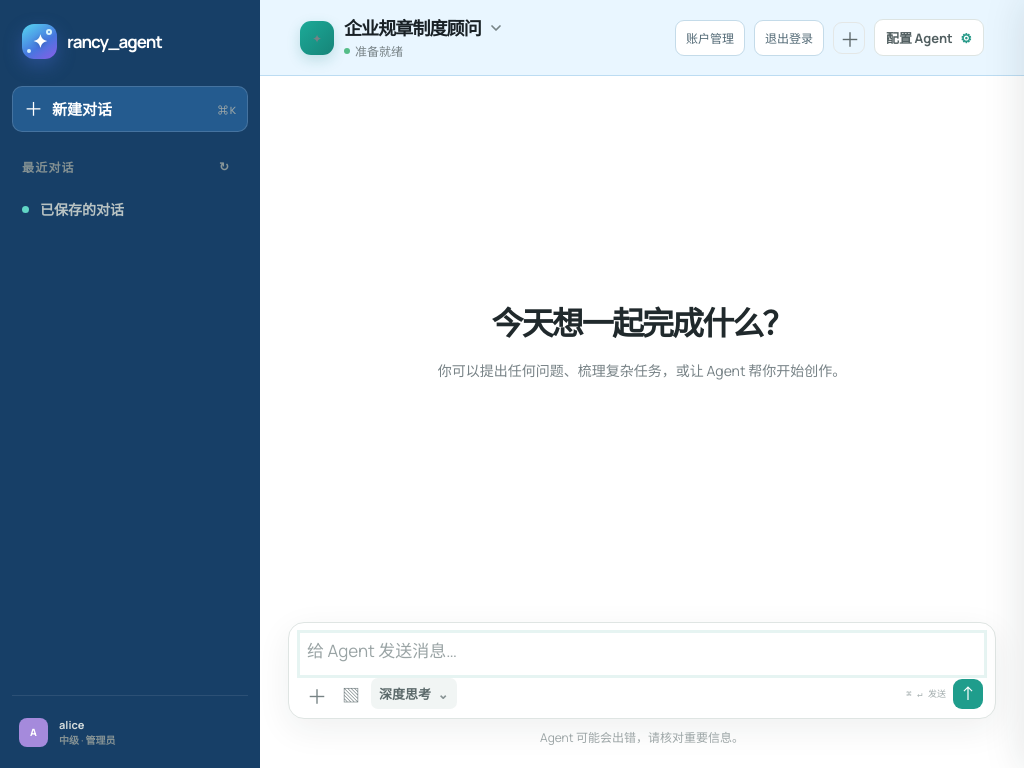
Test: edits stable account IDs without sending an unchanged password
Expected: the button "退出登录" is shown, [754, 20, 824, 56]
Click the button "账户管理": (710, 38) [675, 20, 745, 56]
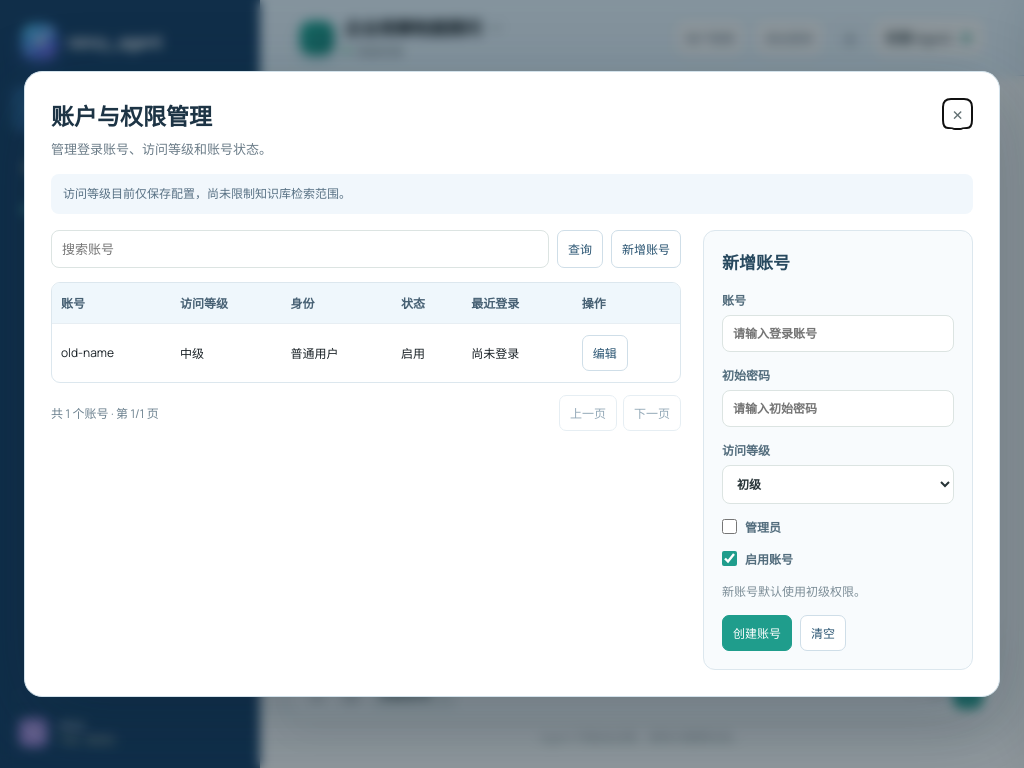
Expected: the button "创建账号" is enabled, [722, 615, 792, 651]
Click the button with aria-label "编辑 old-name": (605, 352) [582, 334, 628, 370]
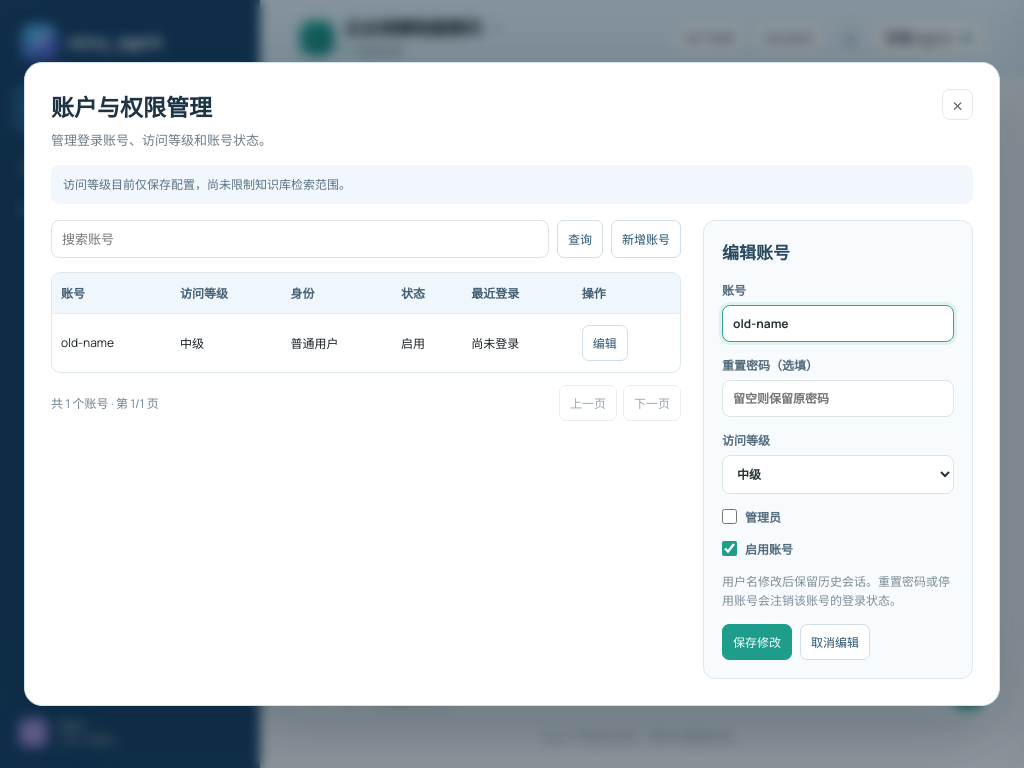
Replace the text in the field labelled "账号" with "new-name": (838, 323) [722, 305, 954, 342]
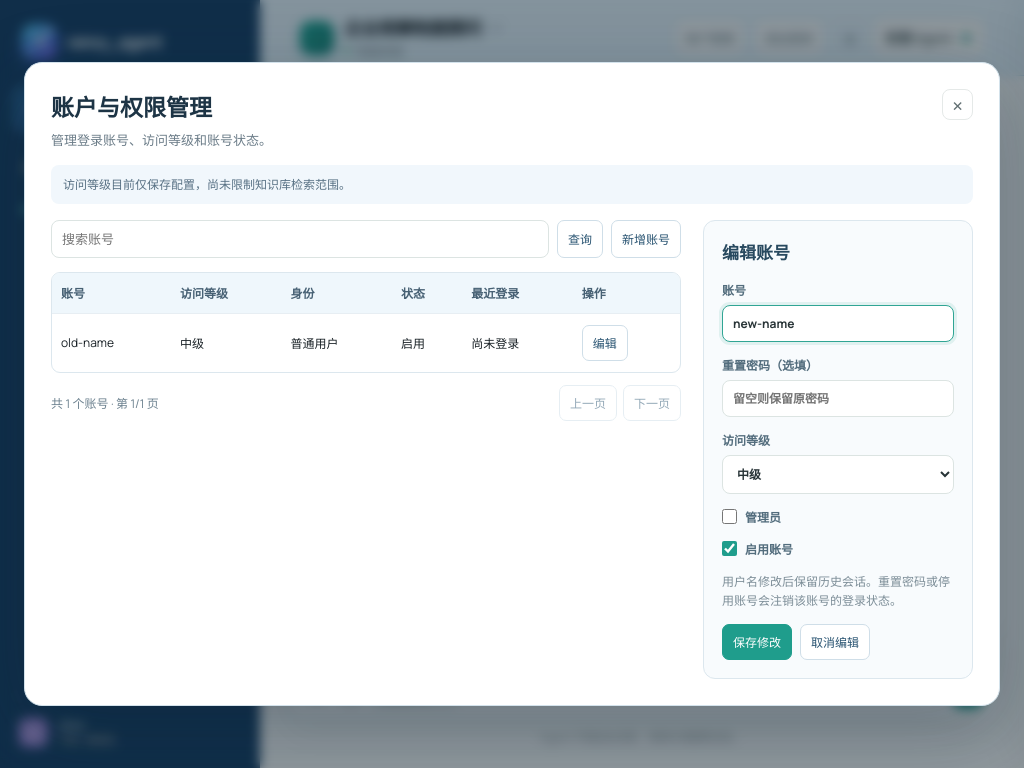
Click the button "保存修改": (757, 642) [722, 624, 792, 660]
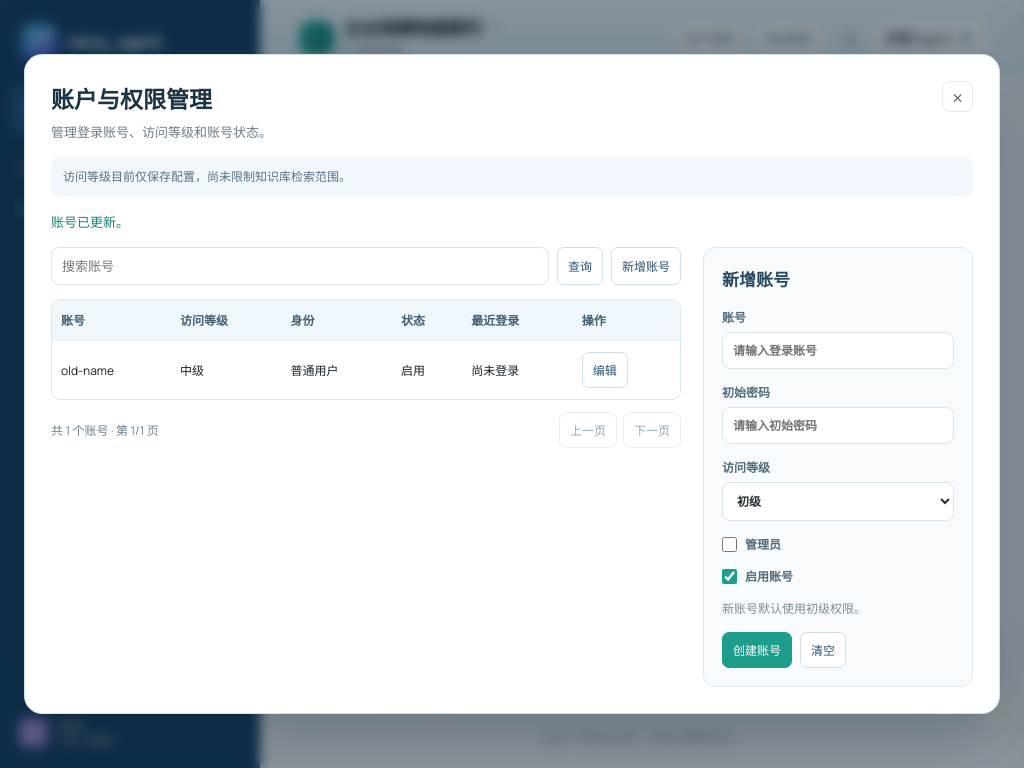
Expected: the text "账号已更新。" is shown, [51, 213, 129, 231]
